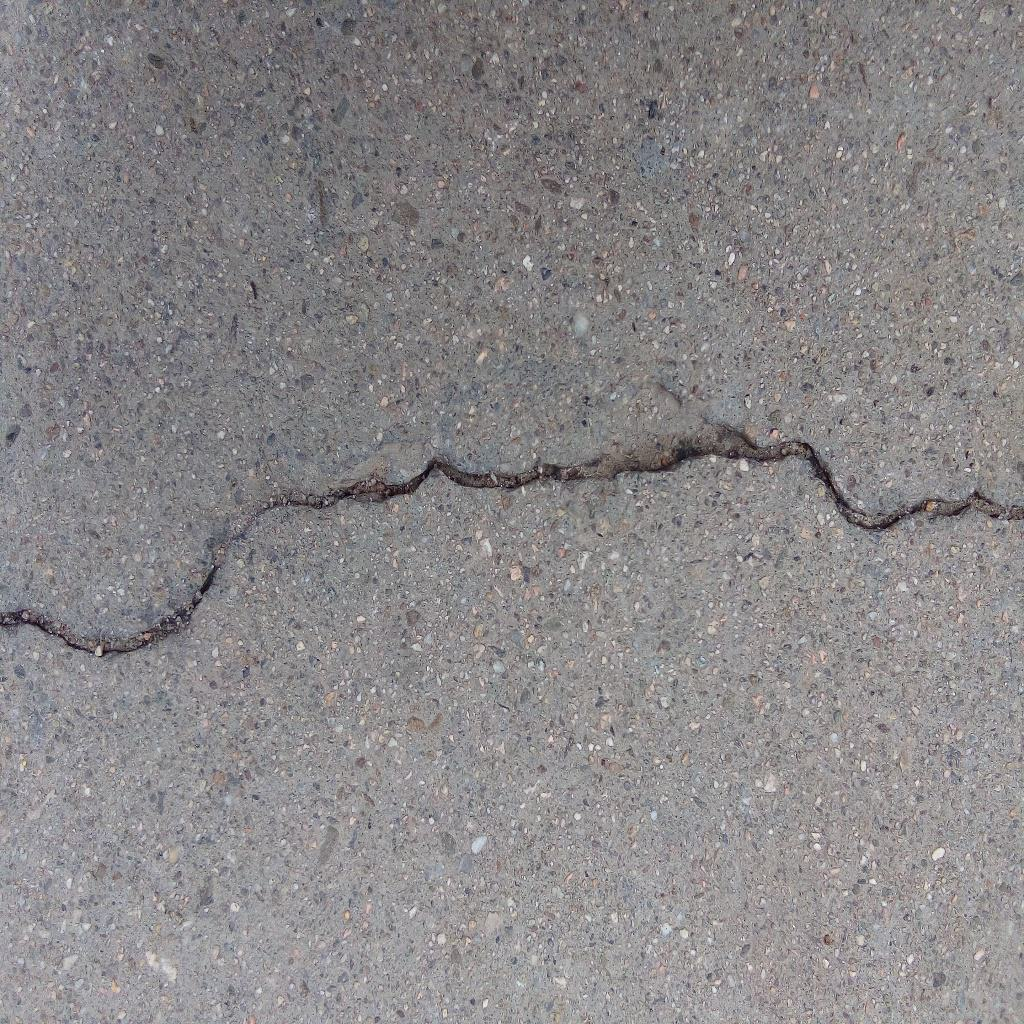Crack: (1, 421, 1024, 658)
